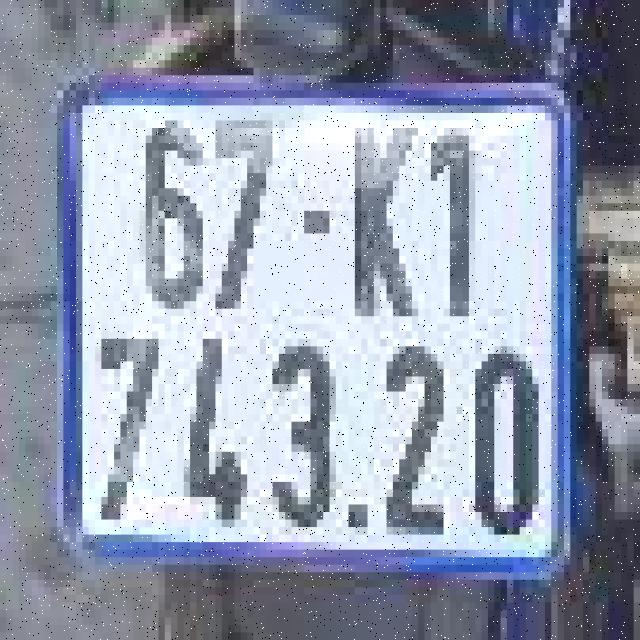0: (463, 331, 551, 550)
1: (421, 116, 491, 328)
2: (371, 335, 453, 538)
3: (269, 331, 339, 535)
4: (180, 323, 256, 534)
6: (130, 105, 206, 309)
7: (82, 308, 165, 534), (212, 109, 282, 313)
H: (339, 109, 428, 320)
